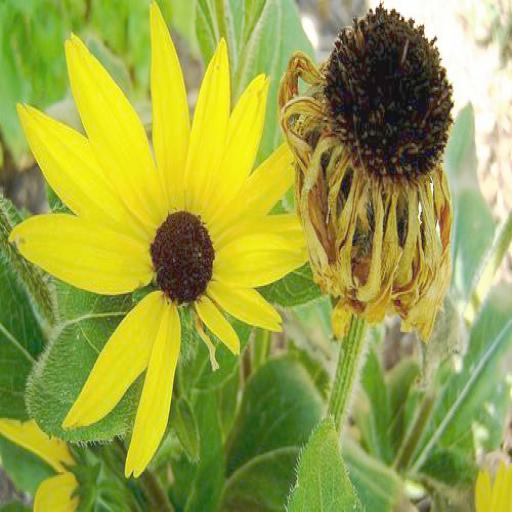sunflower: (21, 4, 304, 474)
